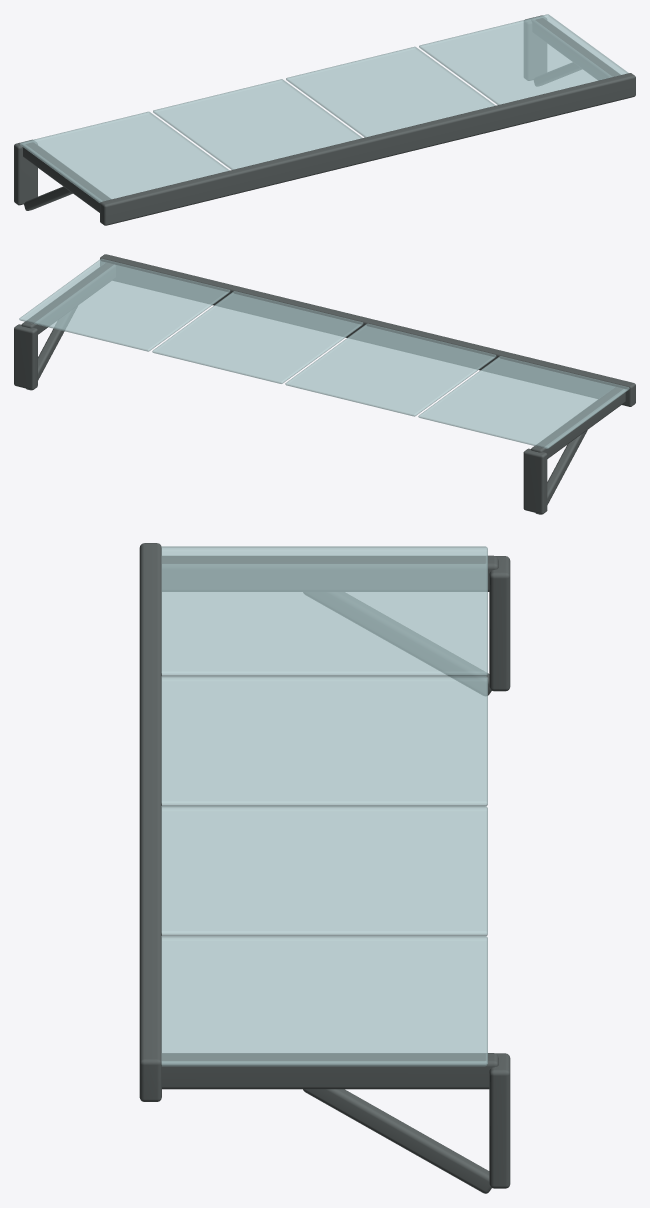
File: canopy_glass.glb
3 renders of one model, top to bottom at view 1: azimuth 30°, elevation 25°; view 2: azimuth 150°, elevation 25°; view 3: azimuth 270°, elevation 25°, orthographic. The views are drawn at different scales.
Visible parts, largest first — view 1: Front fascia, Tinted canopy panel.002, Tinted canopy panel.001, Tinted canopy panel, Tinted canopy panel.003, Cantilever rib, Cantilever rib.001, Wall bearing connection plate, Wall bearing connection plate.001, Triangular knee bracket, Triangular knee bracket.001; view 2: Front fascia, Tinted canopy panel.001, Tinted canopy panel.003, Tinted canopy panel, Tinted canopy panel.002, Cantilever rib, Cantilever rib.001, Wall bearing connection plate, Wall bearing connection plate.001, Triangular knee bracket, Triangular knee bracket.001; view 3: Tinted canopy panel, Tinted canopy panel.003, Tinted canopy panel.001, Tinted canopy panel.002, Front fascia, Cantilever rib.001, Cantilever rib, Triangular knee bracket.001, Triangular knee bracket, Wall bearing connection plate, Wall bearing connection plate.001.
Boxes of the visible parts, x1,y1,x2,y2 form: Front fascia: (100,73,635,225); Tinted canopy panel.002: (286,46,495,137); Tinted canopy panel.001: (153,79,362,169); Tinted canopy panel: (20,111,229,202); Tinted canopy panel.003: (419,14,628,104); Cantilever rib: (22,141,110,212); Cantilever rib.001: (531,16,620,80); Wall bearing connection plate: (14,139,37,205); Wall bearing connection plate.001: (524,15,546,80); Triangular knee bracket: (24,186,72,210); Triangular knee bracket.001: (534,62,581,86); Front fascia: (100,254,635,406); Tinted canopy panel.001: (285,323,496,416); Tinted canopy panel.003: (19,258,230,351); Tinted canopy panel: (418,356,629,448); Tinted canopy panel.002: (152,291,363,383); Cantilever rib: (531,387,625,458); Cantilever rib.001: (21,262,115,334); Wall bearing connection plate: (523,448,547,514); Wall bearing connection plate.001: (14,324,37,389); Triangular knee bracket: (535,430,587,514); Triangular knee bracket.001: (26,306,77,390); Tinted canopy panel: (161,546,487,676); Tinted canopy panel.003: (161,936,487,1066); Tinted canopy panel.001: (161,676,487,806); Tinted canopy panel.002: (161,806,487,935); Front fascia: (139,543,161,1101); Cantilever rib.001: (162,1053,498,1089); Cantilever rib: (162,555,498,591); Triangular knee bracket.001: (303,1089,491,1193); Triangular knee bracket: (303,592,491,695); Wall bearing connection plate: (489,556,510,691); Wall bearing connection plate.001: (489,1053,510,1188).
Bounding box in the file's own units: 4.7 × 0.5976 × 1.42.
